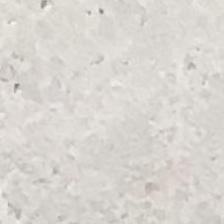Non_Crack: (24, 24, 200, 183)
